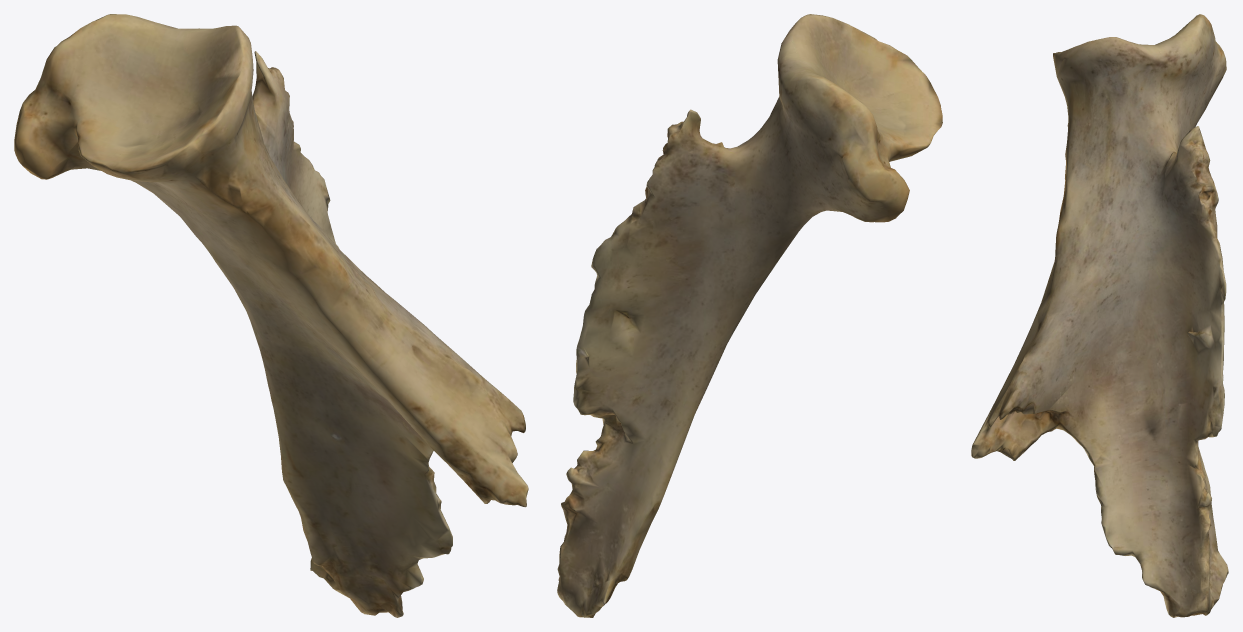
File: scapula.glb
3 views of the same model, side by side, from view 1: azimuth 30°, elevation 25°; view 2: azimuth 150°, elevation 25°; view 3: azimuth 270°, elevation 25° (orthographic). The views are drawn at different scales.
Size of the model in its own units: 0.0692 by 0.1155 by 0.0529.
Materials: 1 (1 with a texture image).
